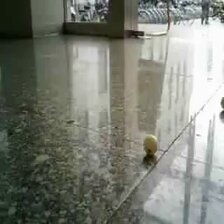w: (143, 134, 159, 155)
